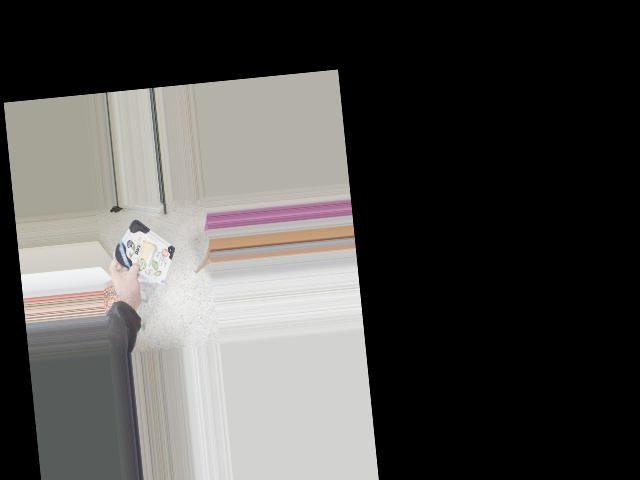cheese: (108, 217, 183, 284)
